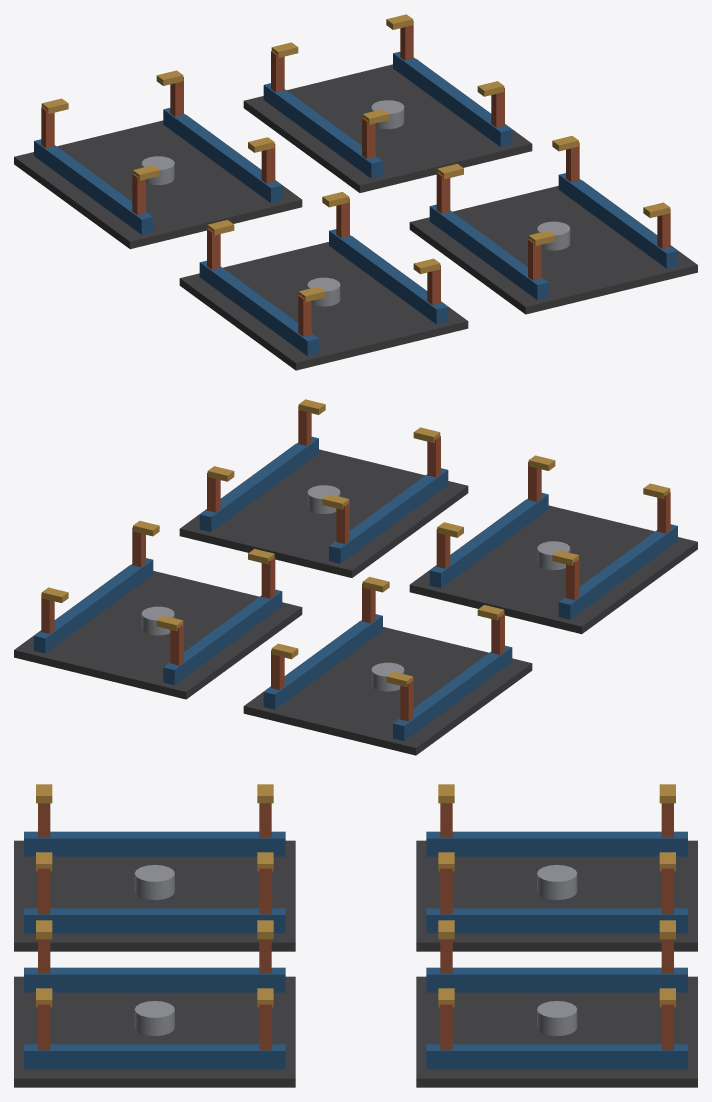
The model's file is drone4_cradle.obj.
3 renders of one model, top to bottom at view 1: azimuth 30°, elevation 25°; view 2: azimuth 150°, elevation 25°; view 3: azimuth 270°, elevation 25°, orthographic. The views are drawn at different scales.
Visible parts, largest first — view 1: drone4_cradle; view 2: drone4_cradle; view 3: drone4_cradle.
Boxes of the visible parts, box(x1,y1,x2,y2) form: drone4_cradle: box(14, 14, 697, 370); drone4_cradle: box(14, 399, 697, 755); drone4_cradle: box(14, 784, 697, 1087).
Bounding box in the file's own units: 2.8 × 0.42 × 3.4.
